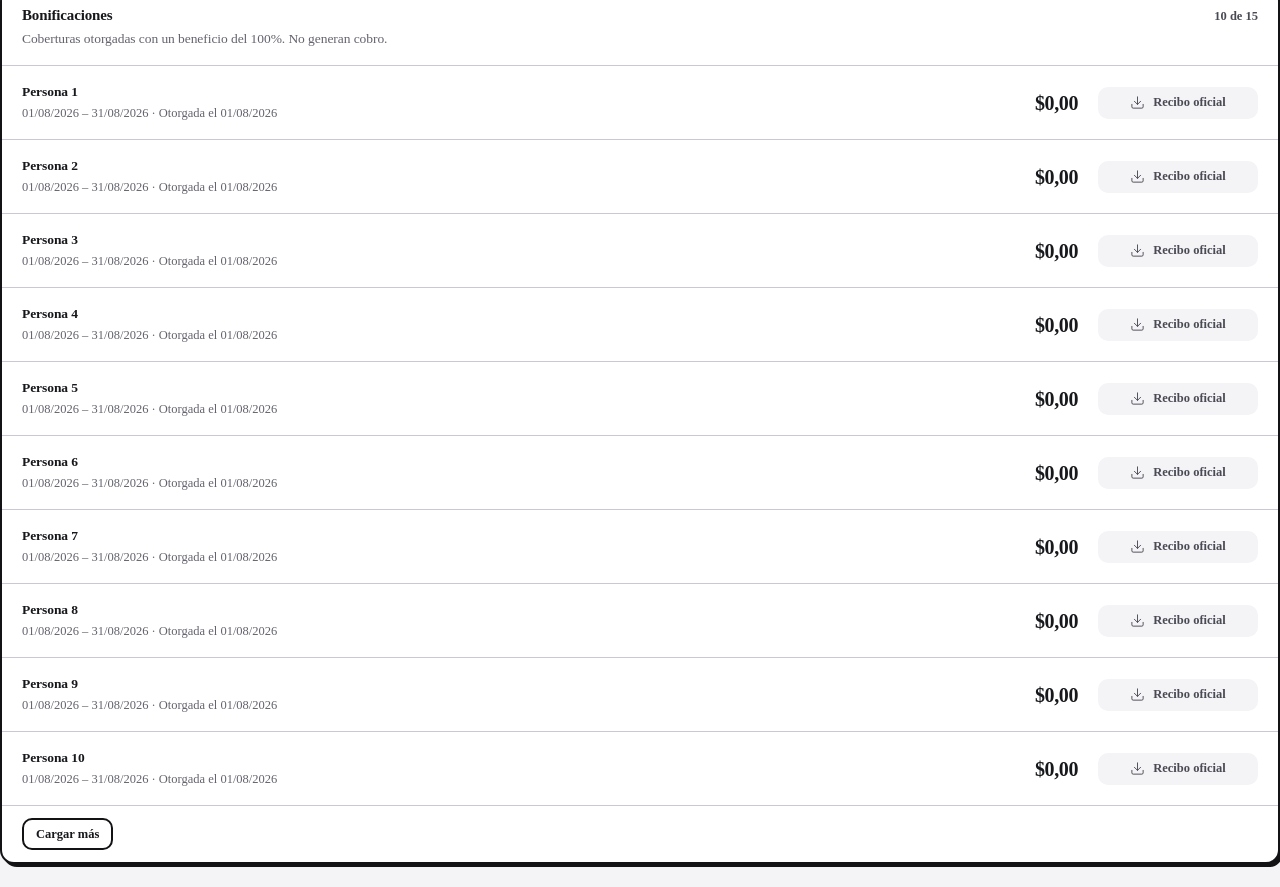
Scenario: BonificacionesSection (admin review) › pagination › keeps the list and offers a retry when loading more fails
Check: the text "Persona 1" is shown, box top-left (22, 84), bottom-right (78, 99)
Click the button "Cargar más" at coordinates (68, 834), box top-left (22, 818), bottom-right (113, 850)
(page scrolled)
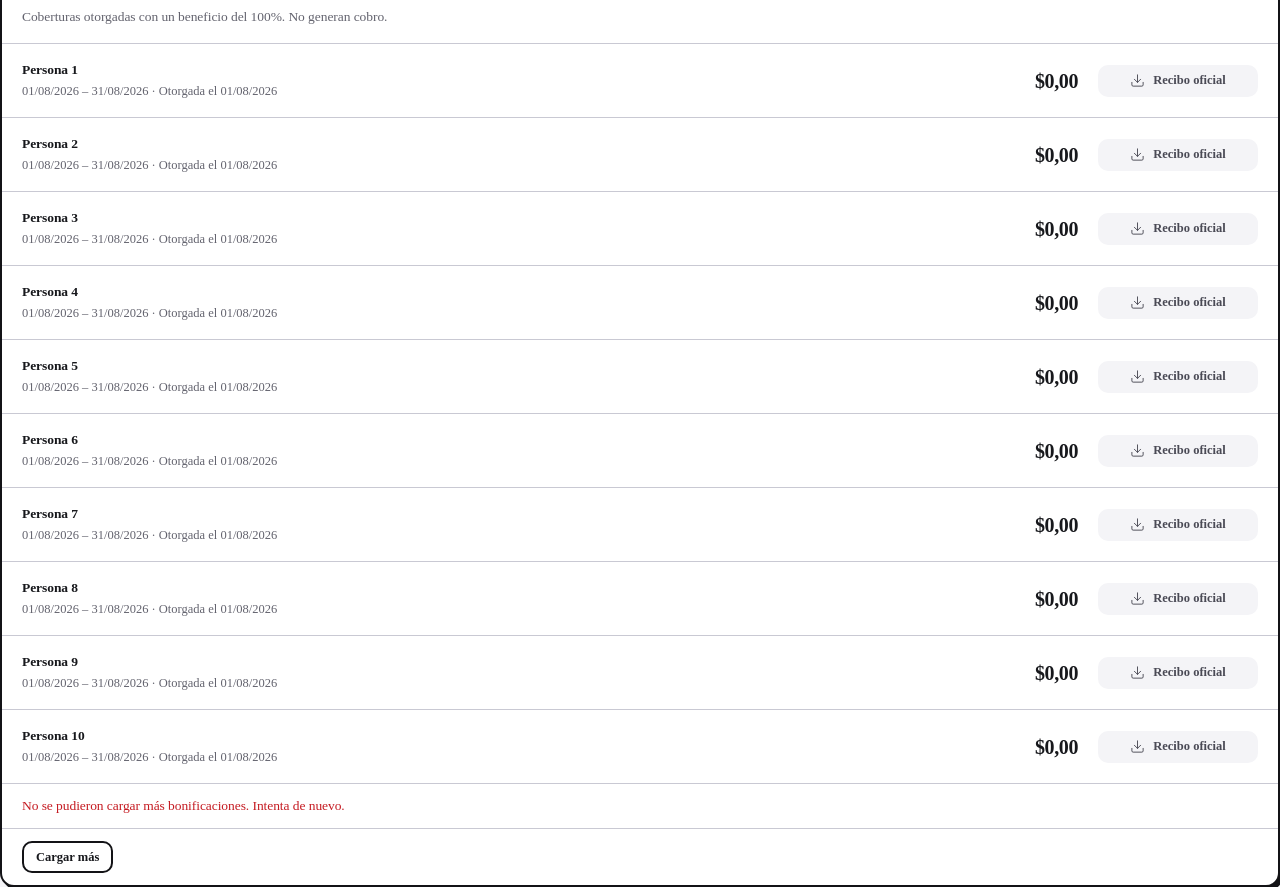
Check: the text "Persona 1" is shown, box top-left (22, 62), bottom-right (78, 77)
Check: the message "No se pudieron cargar más bonificaciones. Intenta de nuevo." is shown, box top-left (2, 783), bottom-right (1278, 828)
